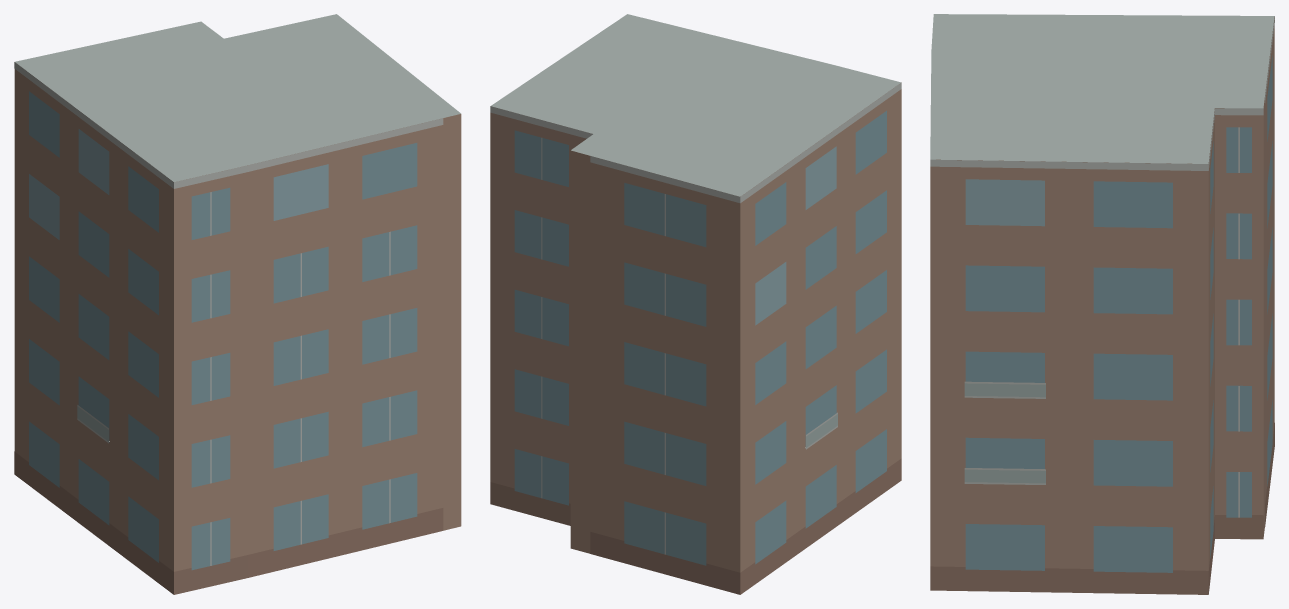
The model's file is survey-upis-32905171.glb.
3 renders of one model, left to right at view 1: azimuth 30°, elevation 25°; view 2: azimuth 150°, elevation 25°; view 3: azimuth 270°, elevation 25°, orthographic. The views are drawn at different scales.
Parts seen in each view (by area): view 1: survey-upis-32905171.tmp; view 2: survey-upis-32905171.tmp; view 3: survey-upis-32905171.tmp.
Boxes of the visible parts, x1=… form: survey-upis-32905171.tmp: x1=14, y1=14, x2=461, y2=594; survey-upis-32905171.tmp: x1=490, y1=14, x2=901, y2=594; survey-upis-32905171.tmp: x1=930, y1=14, x2=1274, y2=594.
Bounding box in the file's own units: 11.14 × 14.9 × 10.8.
